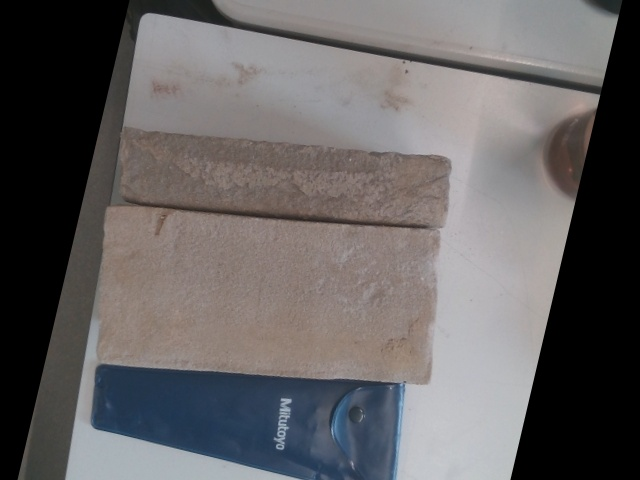brick: (101, 207, 437, 384)
